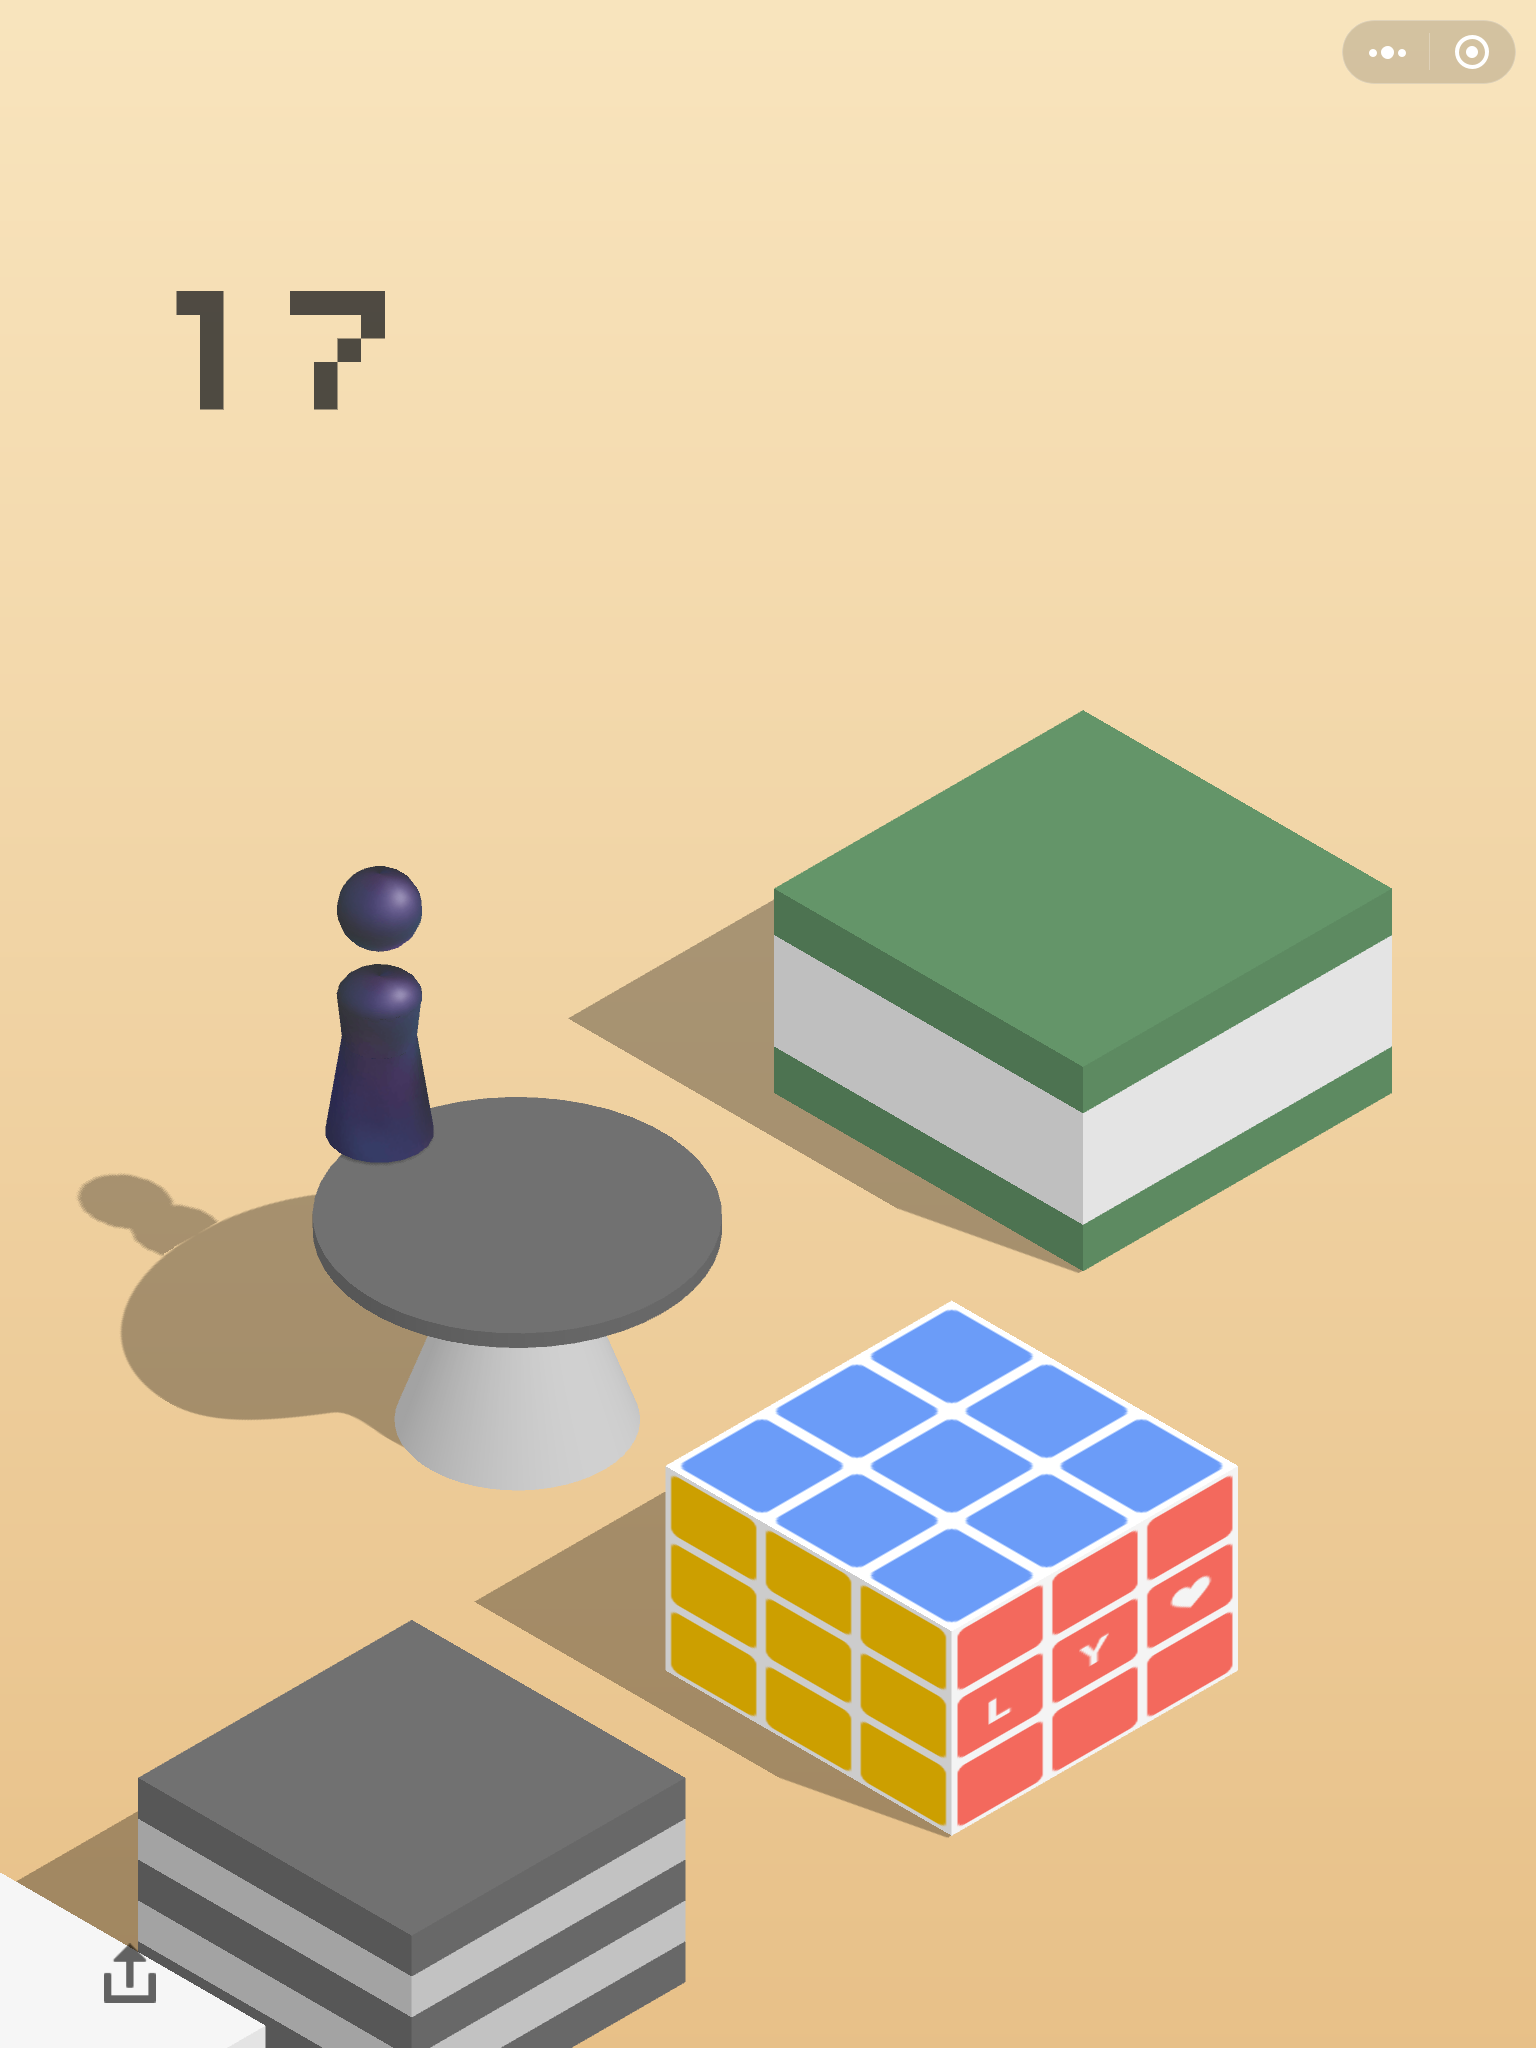c: (302, 1089, 733, 1508)
f: (766, 705, 1404, 1280), (657, 1297, 1246, 1848), (136, 1614, 694, 2048)
r: (318, 850, 444, 1172)
